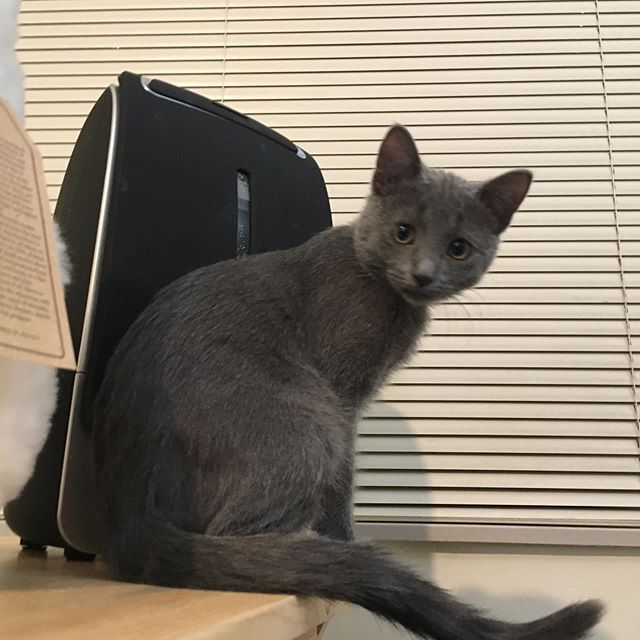cat: (355, 117, 549, 311)
